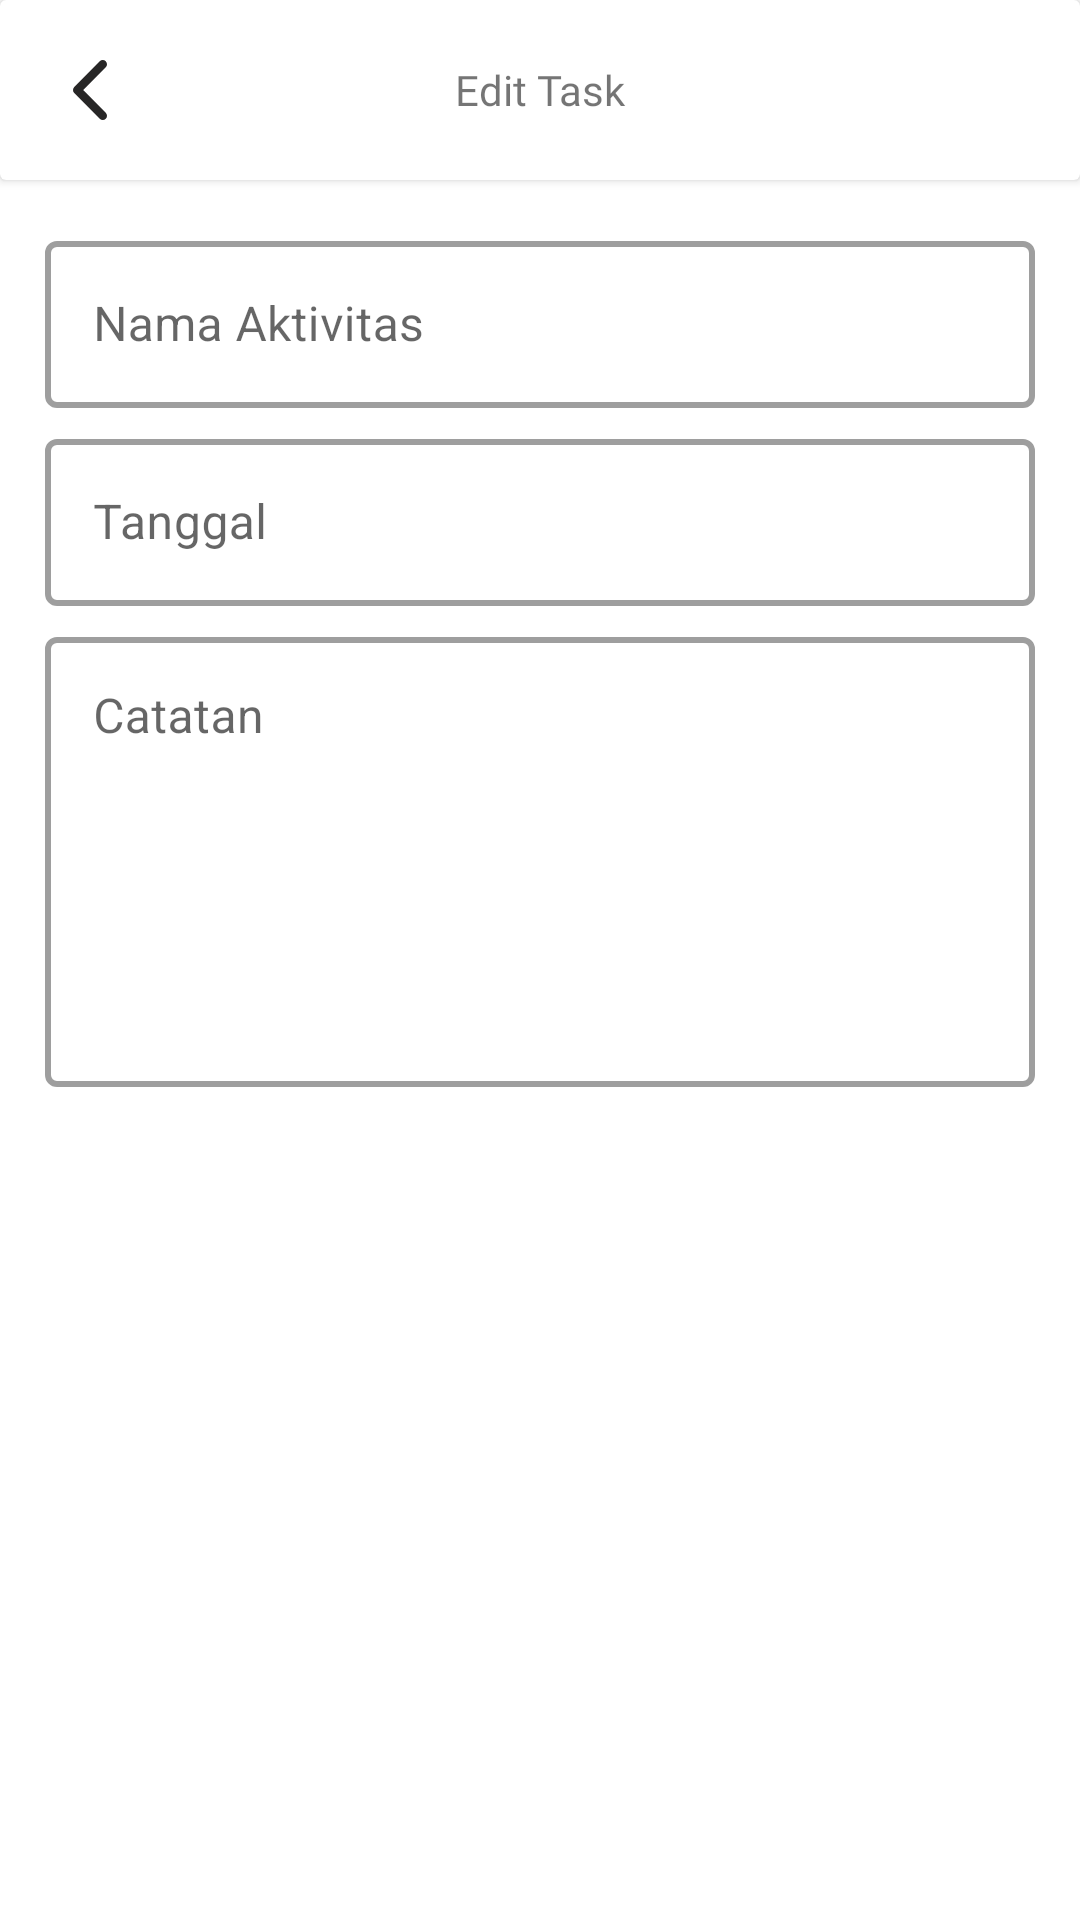

Icon click points for this 1080*1920 phone screenshot, format point (x, y):
back: point (90, 90)
